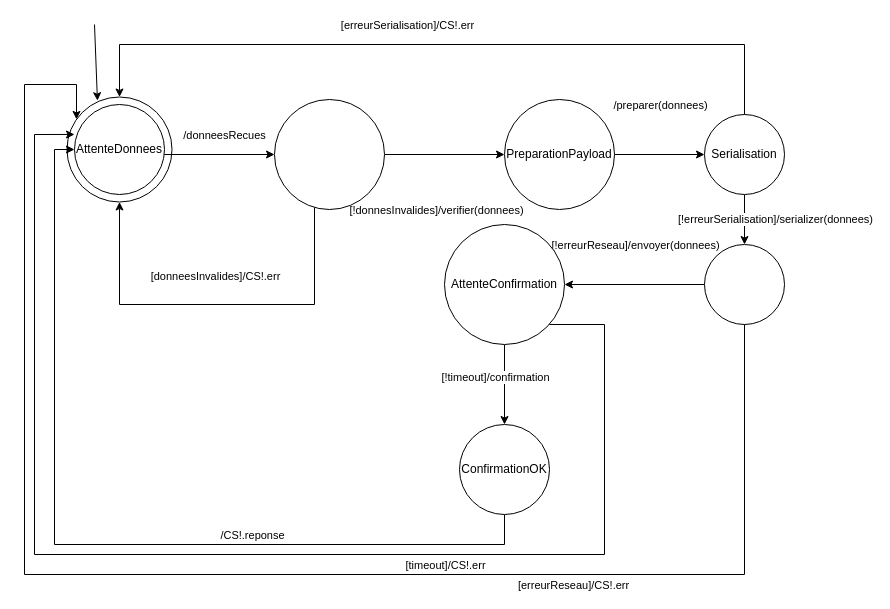
Some shapes in this 890 by 609 pixel diagram are drawn without their labels. The shapes that lost their labels are listed below. From the top down, each one's centre as x and y in pixels, then its label:
the point at 329,154: VerificationDonnees
the point at 744,284: Envoi
